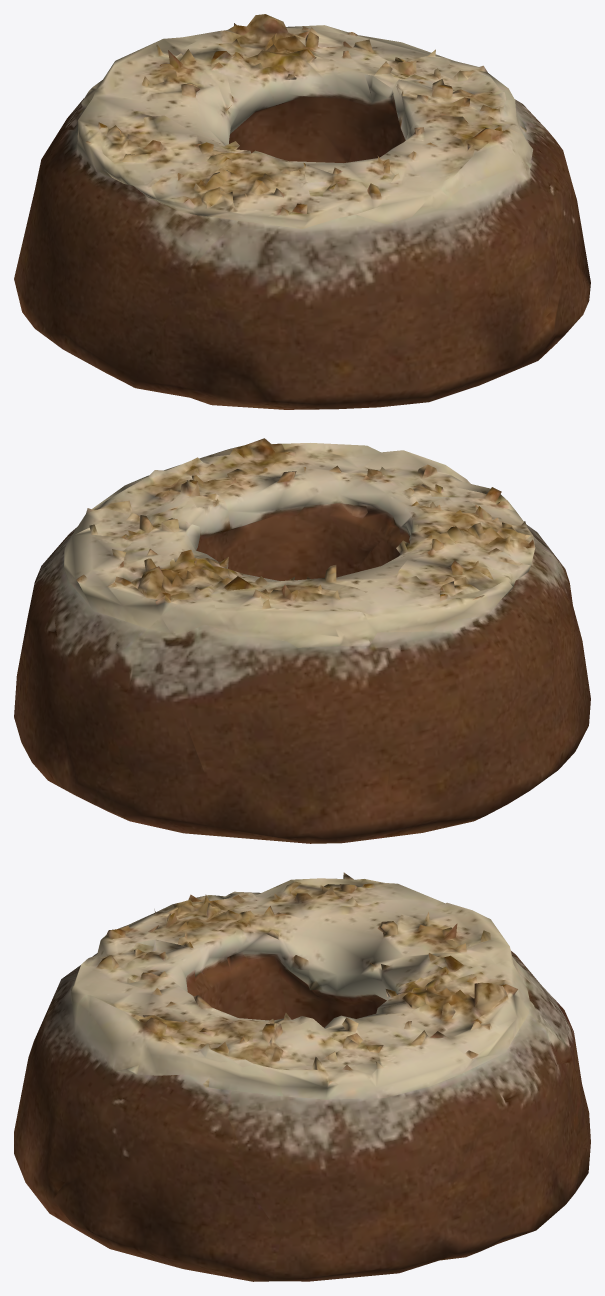
Rendered from carrot_cake.glb.
3 renders of one model, top to bottom at view 1: azimuth 30°, elevation 25°; view 2: azimuth 150°, elevation 25°; view 3: azimuth 270°, elevation 25°, orthographic. The views are drawn at different scales.
Visible parts, largest first — view 1: carrot_cake; view 2: carrot_cake; view 3: carrot_cake.
Boxes of the visible parts, bbox=[...] form: carrot_cake: bbox=[14, 14, 590, 409]; carrot_cake: bbox=[14, 438, 590, 843]; carrot_cake: bbox=[14, 872, 590, 1281].
Size of the model in its own units: 0.2254 by 0.0976 by 0.2254.
1 material, 1 textured.
